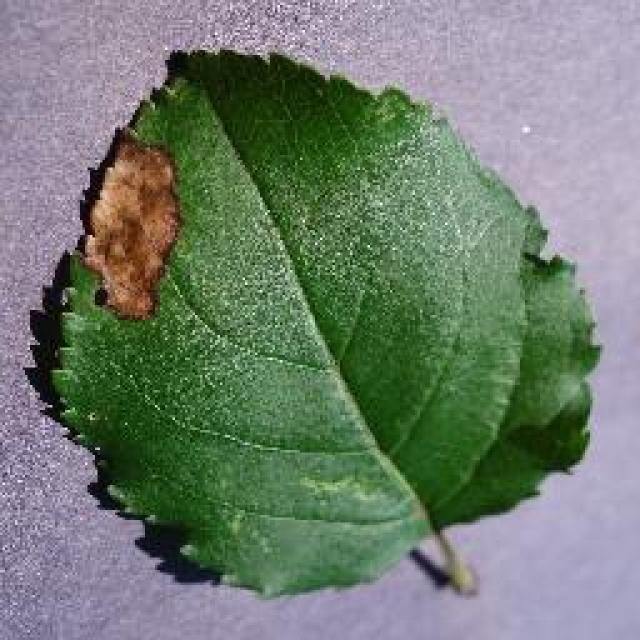apple healthy: (28, 42, 602, 600)
